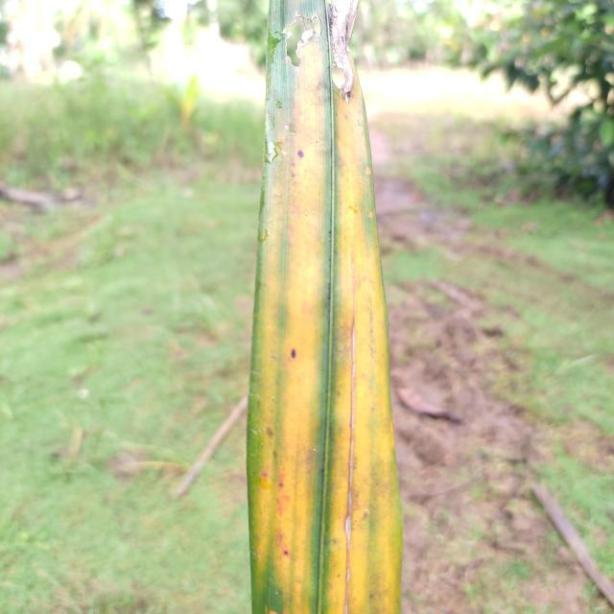Megnesium: (245, 0, 401, 614)
